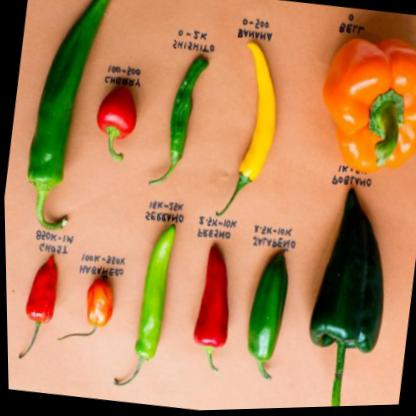bell_pepper: (310, 26, 416, 193)
chilli_pepper: (10, 0, 123, 239), (285, 181, 400, 409), (200, 37, 291, 227), (102, 217, 181, 397), (140, 53, 216, 201), (232, 255, 293, 403), (178, 240, 238, 381)
